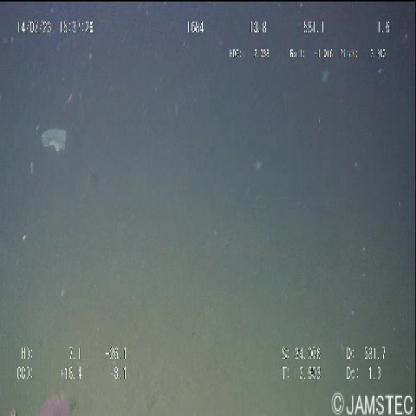Rác: (42, 127, 68, 153)
